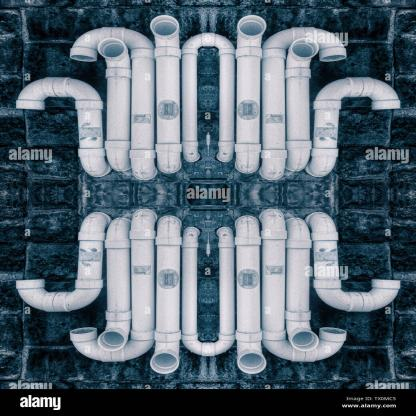PVC: (260, 209, 401, 363), (70, 28, 158, 180), (69, 210, 157, 362), (259, 27, 345, 179), (16, 77, 112, 177), (16, 213, 110, 312), (307, 78, 399, 177), (181, 228, 236, 357), (182, 33, 236, 162), (149, 215, 182, 374), (151, 16, 182, 173), (236, 15, 265, 173), (236, 215, 265, 373), (97, 218, 130, 350)
